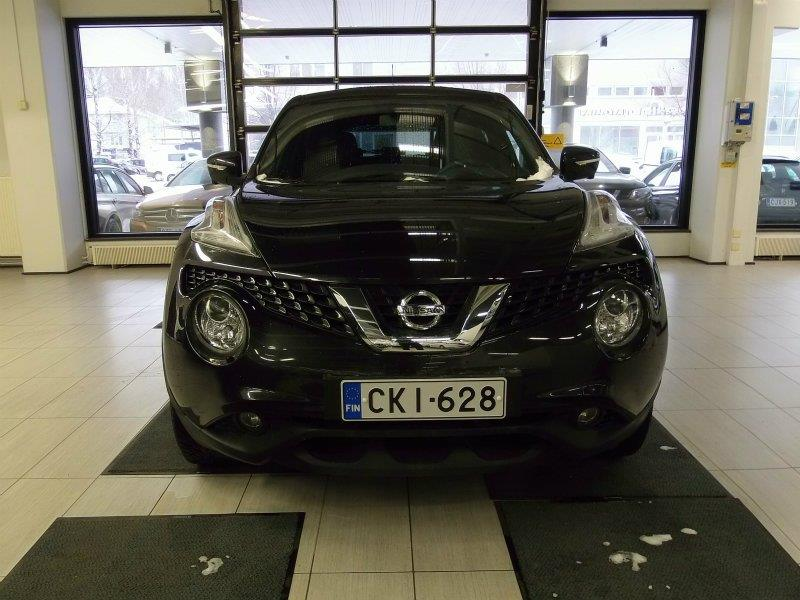license: (340, 373, 505, 424)
